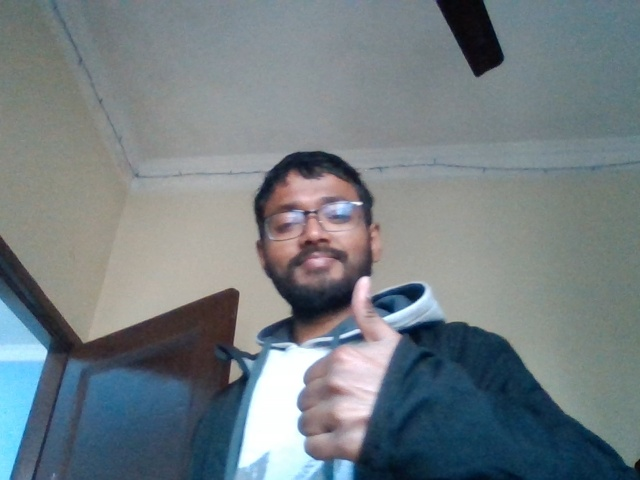good: (301, 282, 433, 459)
